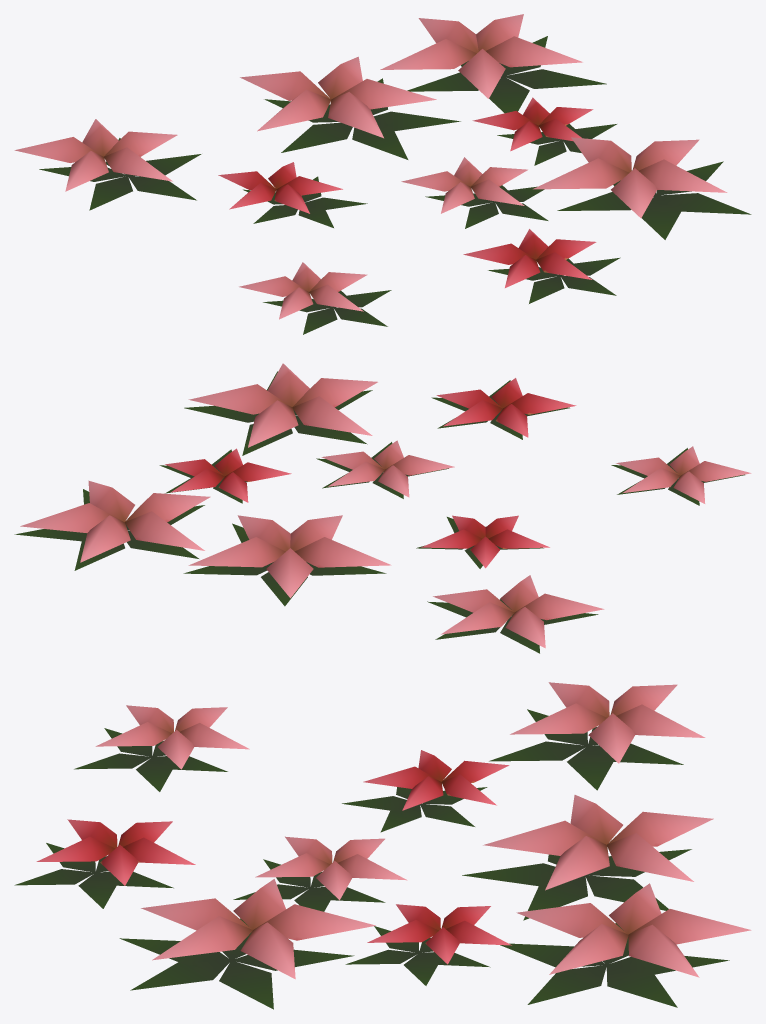
File: deco_flowers_red.FBX
3 views of the same model, one above another, from view 1: azimuth 30°, elevation 25°; view 2: azimuth 150°, elevation 25°; view 3: azimuth 270°, elevation 25° (orthographic). The views are drawn at different scales.
Parts seen in each view (by area): view 1: deco_flowers_red; view 2: deco_flowers_red; view 3: deco_flowers_red.
Part boxes in pixels (box(x1,y1,x2,y2)): deco_flowers_red: box(14, 14, 751, 334); deco_flowers_red: box(14, 363, 751, 653); deco_flowers_red: box(14, 682, 751, 1009).
Size of the model in its own units: 1.87 by 0.1303 by 1.88.
Materials: 1 (1 with a texture image).
